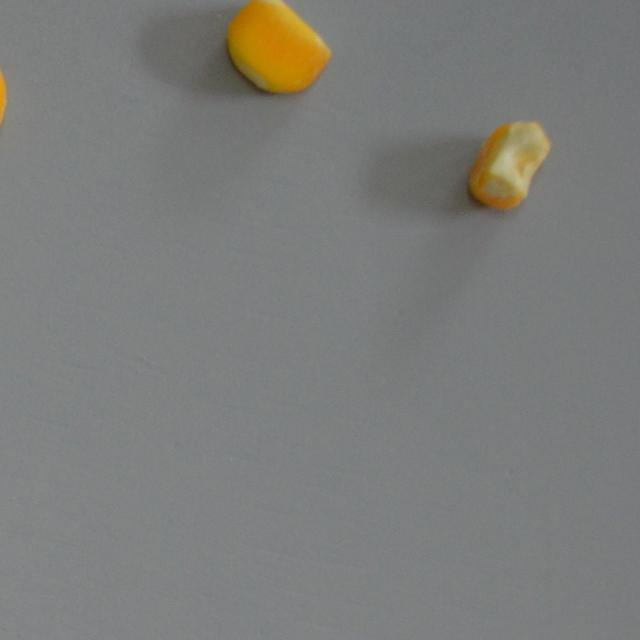dañado: (216, 0, 336, 102), (0, 42, 10, 150)
pelicula: (464, 114, 552, 212)
